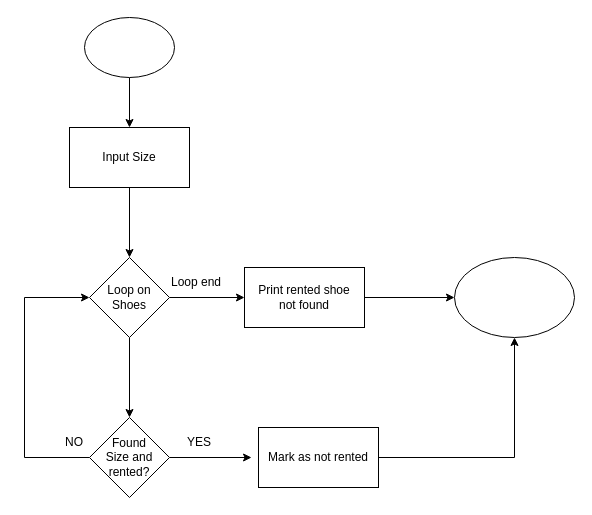
Image size: 592x515. Some labels were removed from this diagram. Here are the shapes that lost their labels. From the top down, the box of each, then its label:
(84, 16, 174, 78): START
(454, 256, 574, 338): END
